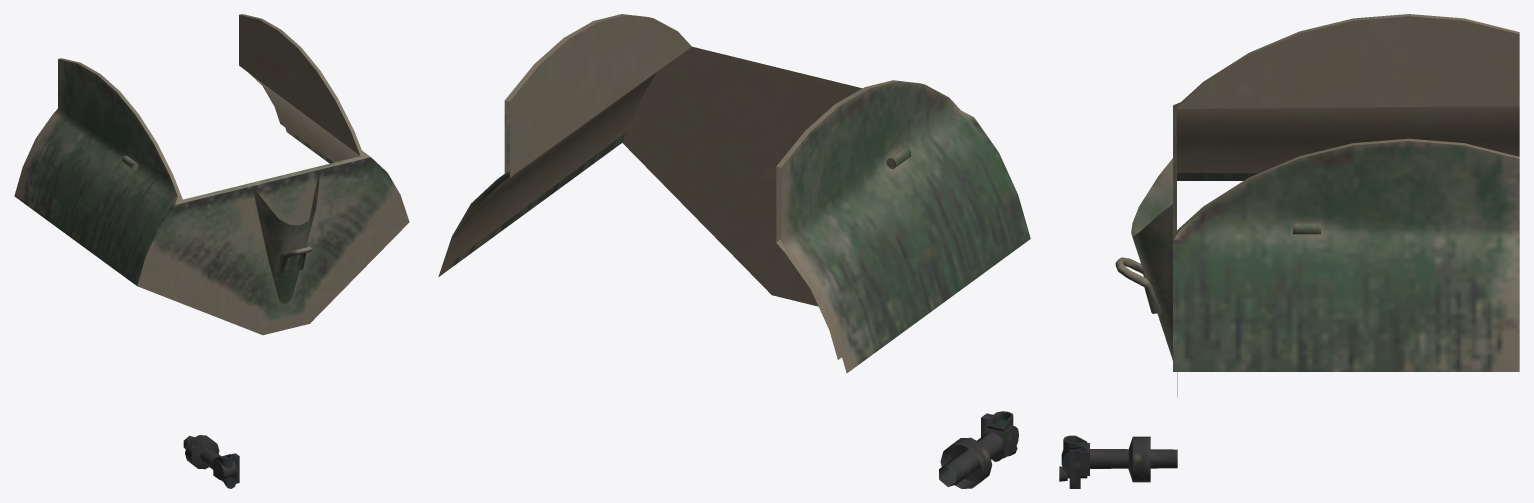
Rendered from Turret_01.glb.
3 renders of one model, left to right at view 1: azimuth 30°, elevation 25°; view 2: azimuth 150°, elevation 25°; view 3: azimuth 270°, elevation 25°, orthographic. The views are drawn at different scales.
Visible parts, largest first — view 1: set_0_group_0; view 2: set_0_group_0; view 3: set_0_group_0.
Part boxes in pixels (bbox=[...]): set_0_group_0: bbox=[14, 14, 409, 488]; set_0_group_0: bbox=[438, 14, 1030, 488]; set_0_group_0: bbox=[1059, 14, 1519, 488].
Bounding box in the file's own units: 0.8127 × 0.9291 × 0.8424.
Materials: 1 (1 with a texture image).
